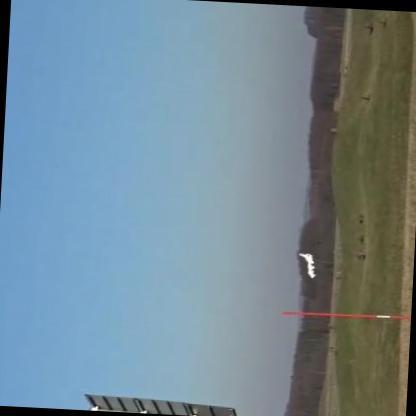plane: (294, 247, 324, 280)
